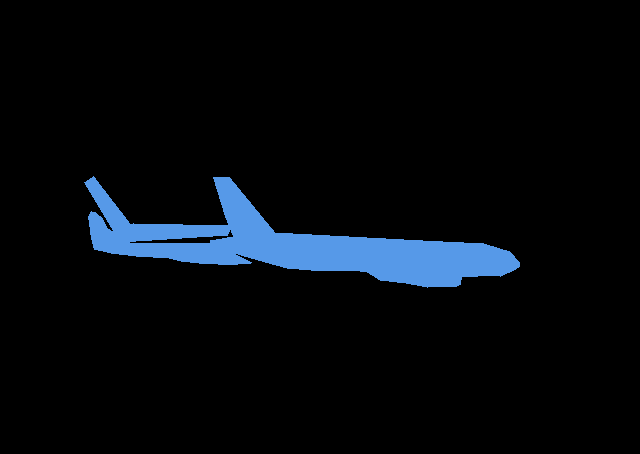Airplane: (210, 177, 519, 288), (84, 176, 232, 243), (88, 211, 251, 264)
